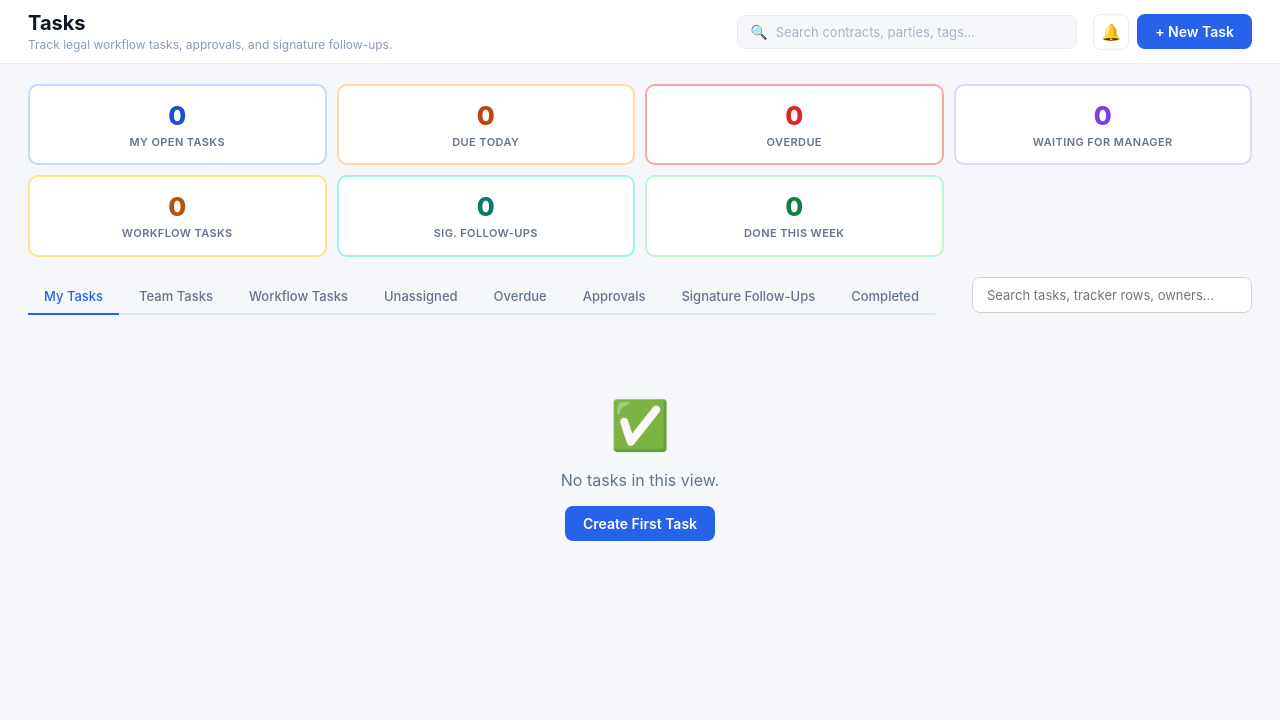
Test: (btn-8) Clicking + New Task opens ManualTaskModal
Click the button "+ New Task" at (1195, 32), box [1137,14,1252,49]
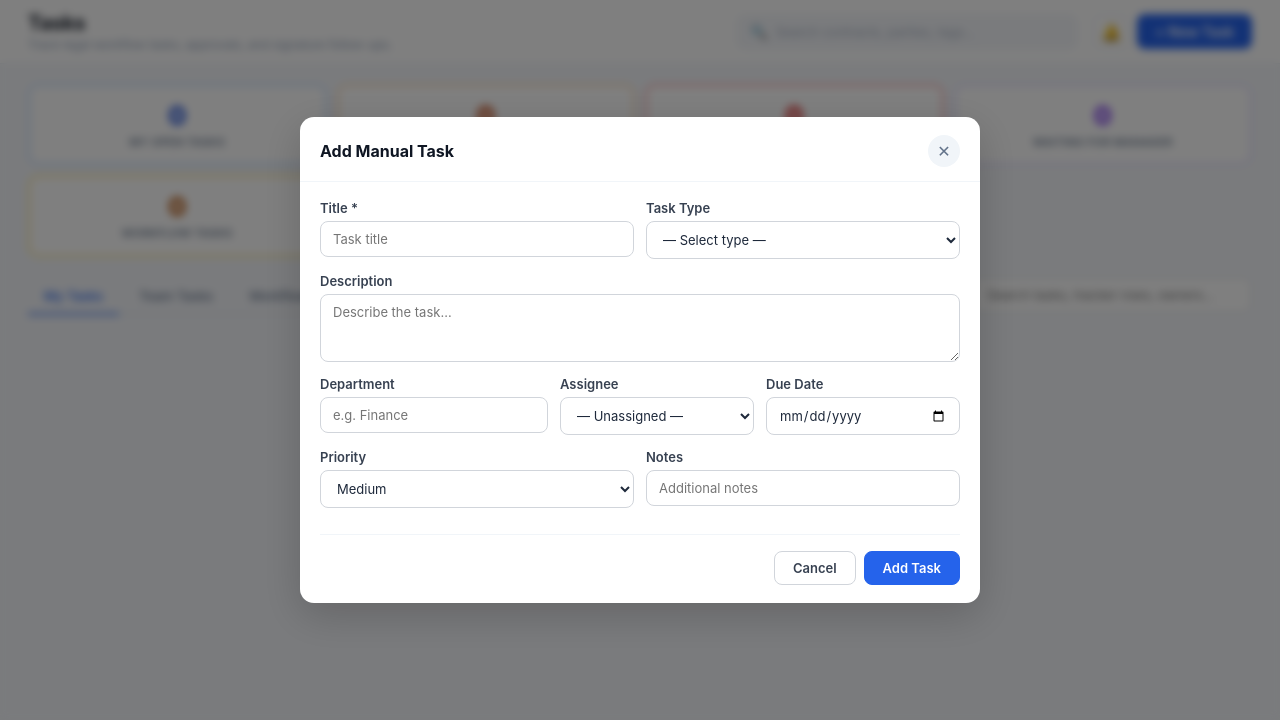
Result: the heading "Add Manual Task" is shown at [320,141,454,161]
